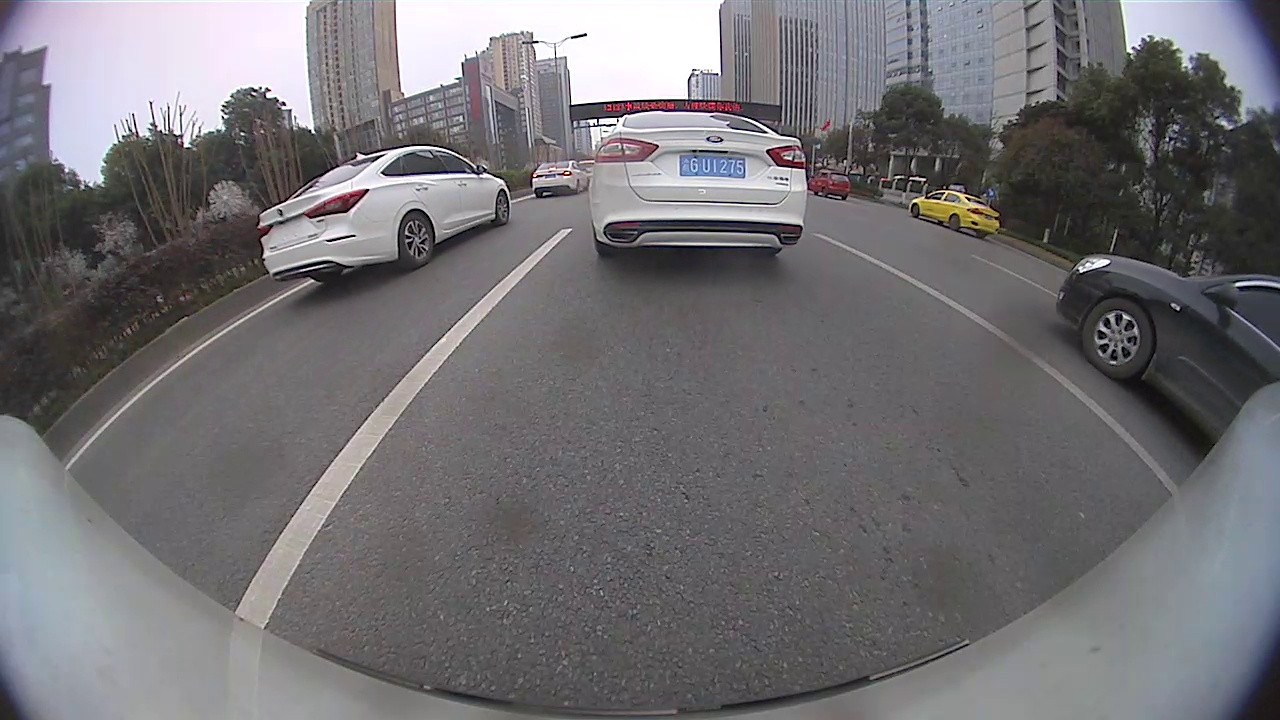car: (1054, 251, 1278, 445), (257, 145, 512, 284), (589, 110, 808, 257), (908, 184, 1000, 240), (531, 159, 589, 198), (807, 169, 851, 202)
front: (1080, 292, 1159, 381), (493, 192, 512, 226), (908, 201, 919, 224)
rear: (398, 213, 437, 269), (944, 211, 962, 231)
